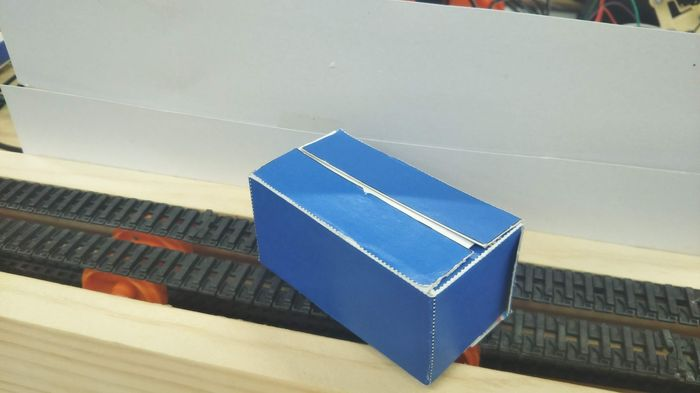box3: (248, 129, 521, 384)
